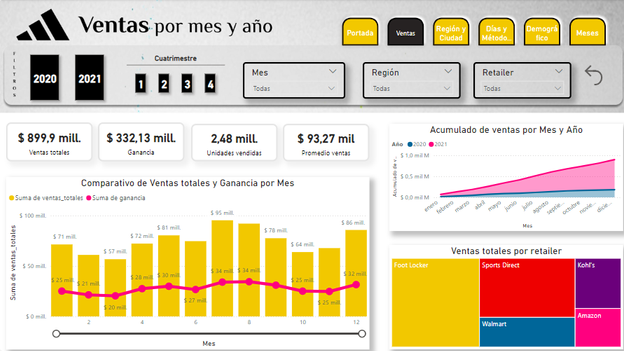

Layout of this report page (visuals, bound fields, positions):
{"tool":"powerbi","page":{"name":"Ventas","canvas":[1280,720],"ordinal":1},"visuals":[{"type":"card","fields":{"Values":["Medidas.Ganancia"]},"box":[202.7,249.3,174.7,78.7],"z":0},{"type":"lineClusteredColumnComboChart","title":"Comparativo de Ventas totales y Ganancia por Mes","fields":{"Category":["Calendario.Mes"],"Y":["Sum(Ventas$.ventas_totales)"],"Y2":["Sum(Ventas$.ganancia)"]},"box":[17.3,360,734.7,349.3],"z":1000},{"type":"card","fields":{"Values":["Medidas.Ventas Totales"]},"box":[17.3,249.3,174.7,78.7],"z":2000},{"type":"card","fields":{"Values":["Medidas.Unidades vendidas"]},"box":[390.7,252,174.7,76],"z":3000},{"type":"card","fields":{"Values":["Medidas.Promedio_ventas"]},"box":[577.3,252,174.7,76],"z":4000},{"type":"stackedAreaChart","fields":{"Y":["Medidas.Acumulado de ventas"],"Category":["Calendario.fecha.Variación.Jerarquía de fechas.Mes"],"Series":["Calendario.Año"]},"box":[792.3,252.3,473.4,216.9],"z":5000},{"type":"treemap","fields":{"Values":["Medidas.Ventas totales"],"Group":["Retailer.retailer"]},"box":[792.3,497.5,473.4,211.2],"z":6000},{"type":"advancedSlicerVisual","fields":{"Values":["Calendario.Año"]},"box":[48.3,94.8,184.5,127.6],"z":7000},{"type":"slicer","fields":{"Values":["Calendario.Mes"]},"box":[496.6,127.6,206.9,74.1],"z":8000},{"type":"advancedSlicerVisual","fields":{"Values":["Calendario.Cuatrimestre"]},"box":[261.3,112,198.7,94.7],"z":9000},{"type":"slicer","fields":{"Values":["Region.region"]},"box":[737.9,127.6,198.3,74.1],"z":10000},{"type":"pageNavigator","box":[687.4,28.3,554.2,75.1],"z":11000},{"type":"slicer","fields":{"Values":["Retailer.retailer"]},"box":[962.1,127.6,198.3,74.1],"z":12000},{"type":"actionButton","box":[1179.4,127,62.7,52.8],"z":13000}]}

Visuals, with their boxes in screenshot pixels (x1, y1, x2, y2), scaled from the page's 1280x720 canvas onto the 624x351 screenshot:
card - Medidas.Ganancia: {"left": 99, "top": 122, "right": 184, "bottom": 160}
"Comparativo de Ventas totales y Ganancia por Mes" lineClusteredColumnComboChart: {"left": 8, "top": 176, "right": 367, "bottom": 346}
card - Medidas.Ventas Totales: {"left": 8, "top": 122, "right": 94, "bottom": 160}
card - Medidas.Unidades vendidas: {"left": 190, "top": 123, "right": 276, "bottom": 160}
card - Medidas.Promedio_ventas: {"left": 281, "top": 123, "right": 367, "bottom": 160}
stackedAreaChart - Medidas.Acumulado de ventas x Calendario.fecha.Variación.Jerarquía de fechas.Mes: {"left": 386, "top": 123, "right": 617, "bottom": 229}
treemap - Medidas.Ventas totales x Retailer.retailer: {"left": 386, "top": 243, "right": 617, "bottom": 345}
advancedSlicerVisual - Calendario.Año: {"left": 24, "top": 46, "right": 113, "bottom": 108}
slicer - Calendario.Mes: {"left": 242, "top": 62, "right": 343, "bottom": 98}
advancedSlicerVisual - Calendario.Cuatrimestre: {"left": 127, "top": 55, "right": 224, "bottom": 101}
slicer - Region.region: {"left": 360, "top": 62, "right": 456, "bottom": 98}
pageNavigator: {"left": 335, "top": 14, "right": 605, "bottom": 50}
slicer - Retailer.retailer: {"left": 469, "top": 62, "right": 566, "bottom": 98}
actionButton: {"left": 575, "top": 62, "right": 606, "bottom": 88}
